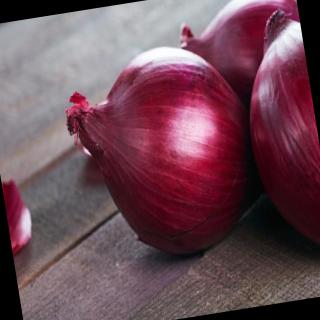Bawang Merah: (53, 33, 273, 276)
